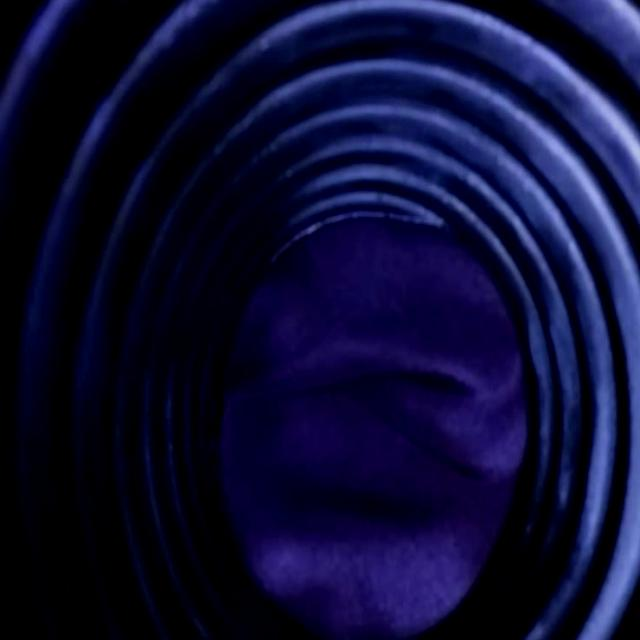block: (222, 224, 526, 632)
